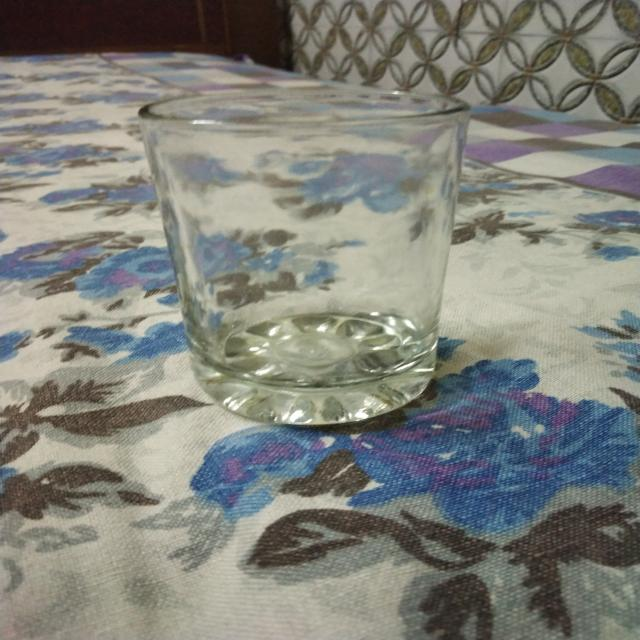Glass: (133, 85, 476, 429)
